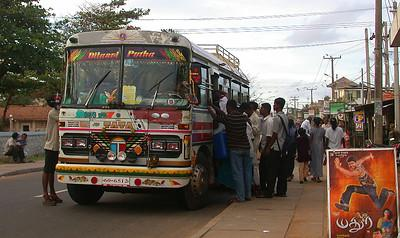bus: (55, 32, 257, 201)
